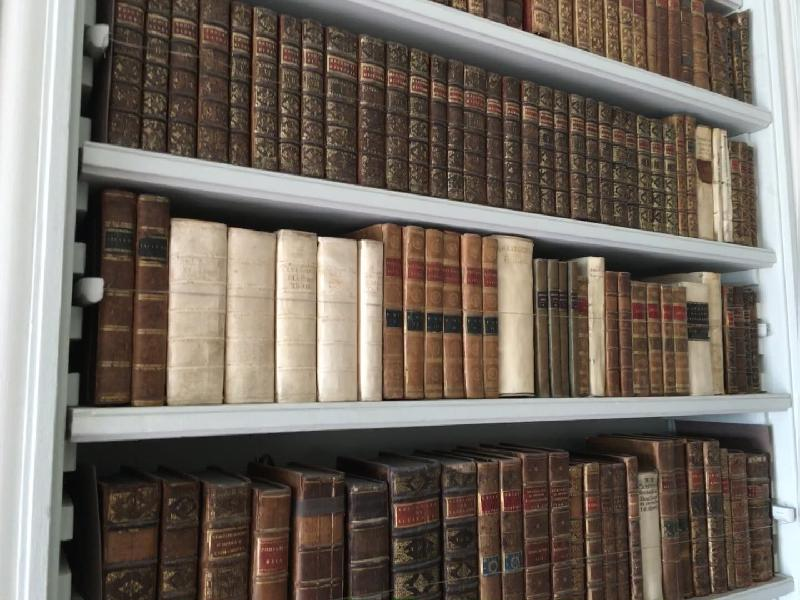Kk4-14: (499, 232, 533, 398)
Kk4-15_16: (534, 257, 558, 398)
Kk4-17_18: (560, 260, 579, 402)
Kk4-19: (578, 272, 591, 397)
Kk4-1_2: (99, 184, 168, 408)
Kk4-20: (587, 255, 607, 399)
Kk4-21_22: (606, 269, 632, 397)
Kk4-23_26: (632, 280, 688, 394)
Kk4-27: (686, 280, 711, 396)
Kk4-28: (710, 270, 724, 398)
Kk4-29: (724, 284, 734, 397)
Kk4-3_7: (171, 213, 382, 406)
Kk4-8_13: (384, 220, 499, 400)
